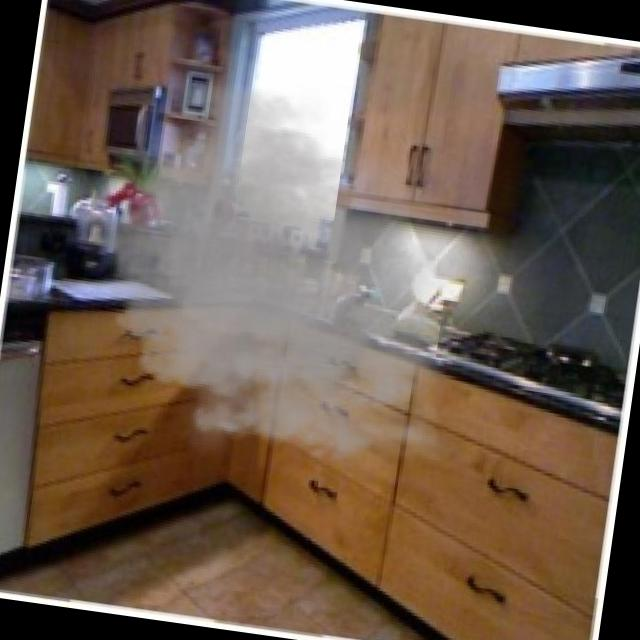Smoke: (47, 53, 520, 499)
